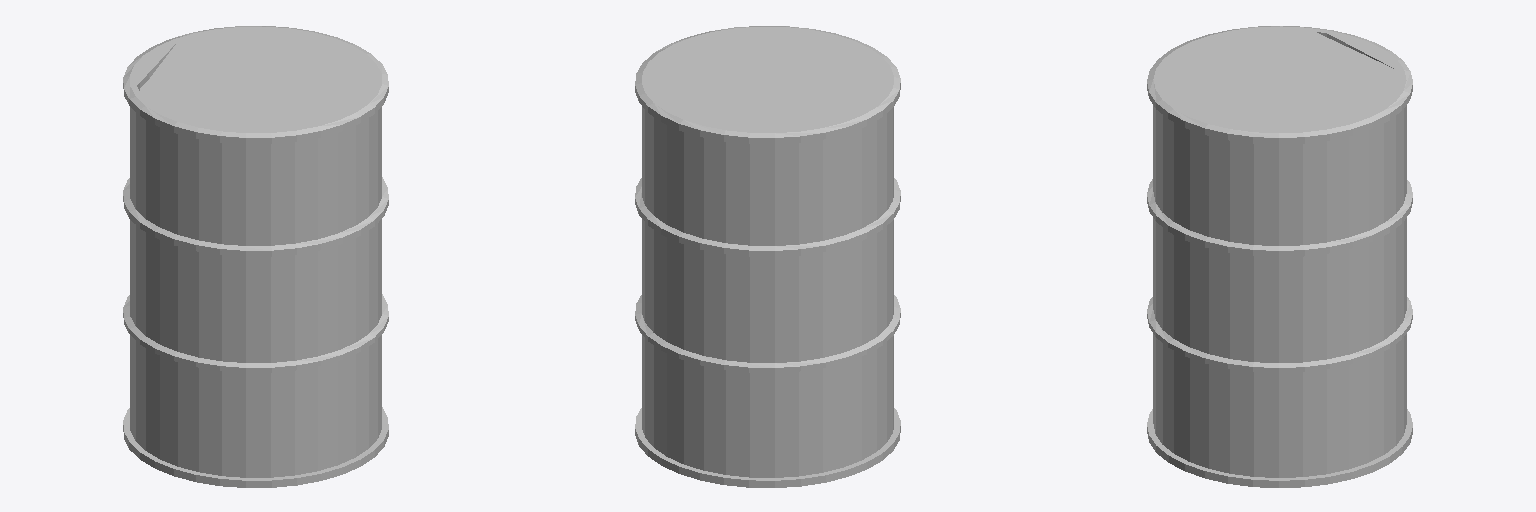
File: barrel.obj
3 views of the same model, side by side, from view 1: azimuth 30°, elevation 25°; view 2: azimuth 150°, elevation 25°; view 3: azimuth 270°, elevation 25° (orthographic).
Parts seen in each view (by area): view 1: Cylinder01.001; view 2: Cylinder01.001; view 3: Cylinder01.001.
Part boxes in pixels (x1,y1,x2,y2): Cylinder01.001: (123, 26, 388, 487); Cylinder01.001: (635, 26, 900, 487); Cylinder01.001: (1147, 26, 1412, 487).
Size of the model in its own units: 1.25 by 1.83 by 1.25.